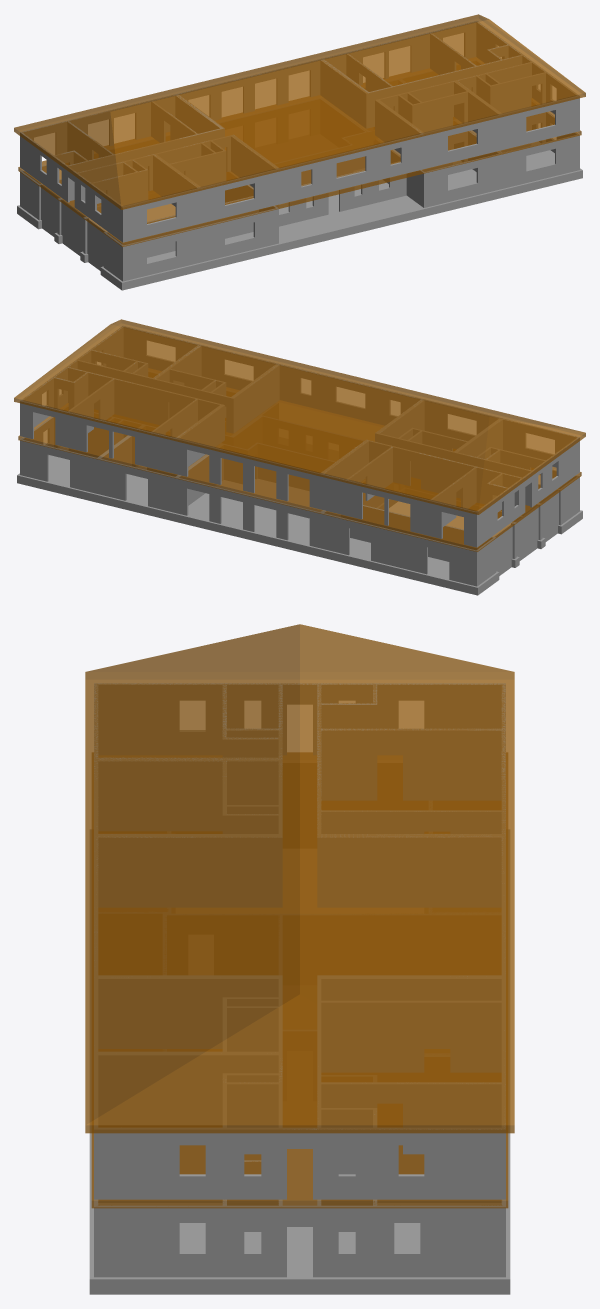
Rendered from house.gltf.
3 views of the same model, one above another, from view 1: azimuth 30°, elevation 25°; view 2: azimuth 150°, elevation 25°; view 3: azimuth 270°, elevation 25° (orthographic). The views are drawn at different scales.
Parts seen in each view (by area): view 1: roof, floor-2, living-room, foundation, family-3, family-2, room-7, room-1.001, room-5, family-1, room-6, room-1 (+4 smaller); view 2: roof, floor-2, family-3, foundation, room-7, living-room, container-back, family-2, media-room, room-5, family-1, room-6 (+4 smaller); view 3: roof, floor-2, room-7, living-room, room-6, family-3, foundation, room-2, room-5, family-1, room-4, family-2 (+3 smaller).
Part boxes in pixels (bbox=[...]): roof: bbox=[14, 14, 585, 209]; floor-2: bbox=[18, 57, 581, 246]; living-room: bbox=[176, 59, 423, 204]; foundation: bbox=[17, 142, 582, 290]; family-3: bbox=[20, 94, 222, 201]; family-2: bbox=[75, 154, 200, 242]; room-7: bbox=[322, 21, 522, 127]; room-1.001: bbox=[103, 196, 278, 281]; room-5: bbox=[378, 81, 501, 168]; family-1: bbox=[154, 135, 278, 223]; room-6: bbox=[456, 62, 579, 149]; room-1: bbox=[393, 131, 501, 207]; roof: bbox=[14, 319, 585, 514]; floor-2: bbox=[18, 369, 581, 551]; family-3: bbox=[321, 440, 524, 547]; foundation: bbox=[17, 447, 582, 595]; room-7: bbox=[20, 367, 221, 473]; living-room: bbox=[176, 364, 423, 509]; container-back: bbox=[321, 505, 496, 586]; family-2: bbox=[455, 418, 579, 506]; media-room: bbox=[176, 455, 383, 548]; room-5: bbox=[154, 345, 277, 432]; family-1: bbox=[377, 399, 500, 478]; room-6: bbox=[77, 326, 199, 386]; roof: bbox=[85, 624, 514, 1133]; floor-2: bbox=[91, 753, 508, 1208]; room-7: bbox=[317, 977, 505, 1199]; living-room: bbox=[94, 836, 505, 976]; room-6: bbox=[94, 1053, 282, 1199]; family-3: bbox=[317, 683, 505, 835]; foundation: bbox=[89, 829, 510, 1294]; room-2: bbox=[94, 1145, 282, 1277]; room-5: bbox=[94, 977, 282, 1052]; family-1: bbox=[94, 760, 282, 835]; room-4: bbox=[317, 1145, 505, 1277]; family-2: bbox=[94, 683, 282, 759].
Bounding box in the file's own units: 25 × 6.7 × 10.
